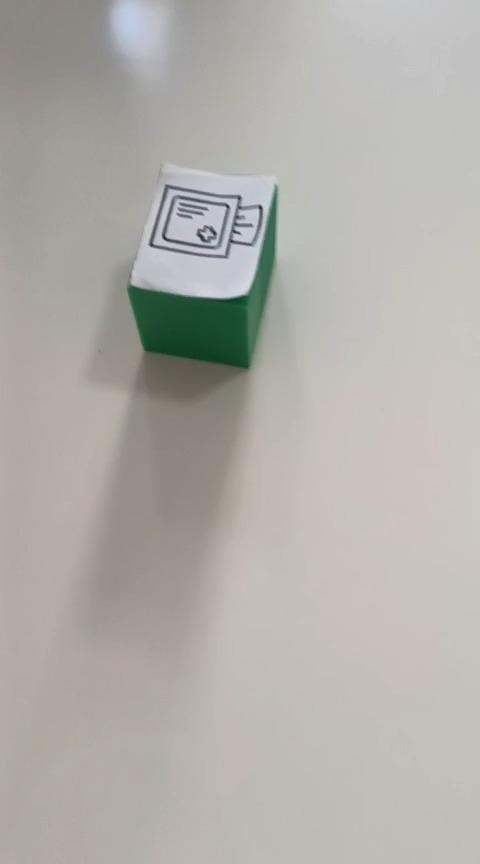Gauze: (125, 160, 278, 369)
